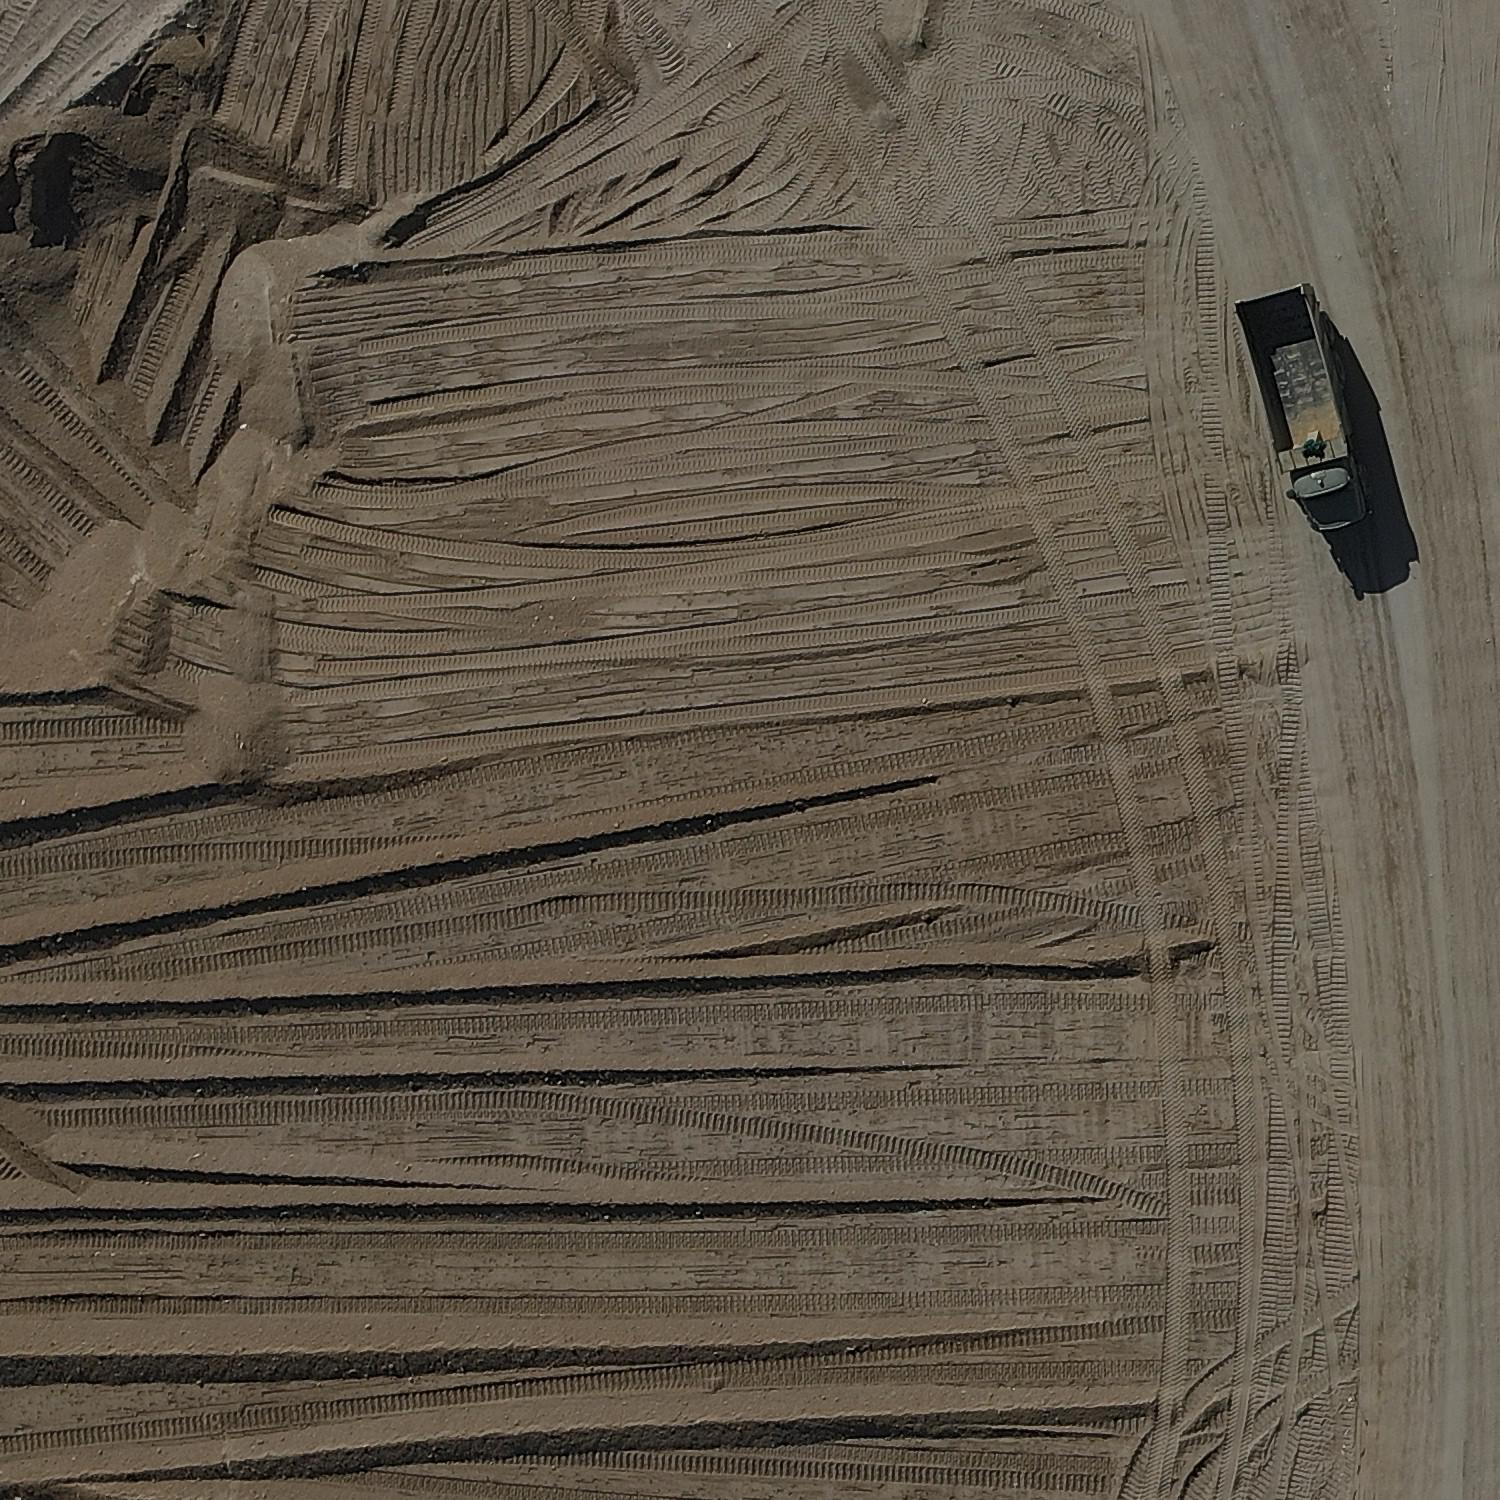empty-truck: (1202, 275, 1431, 580)
